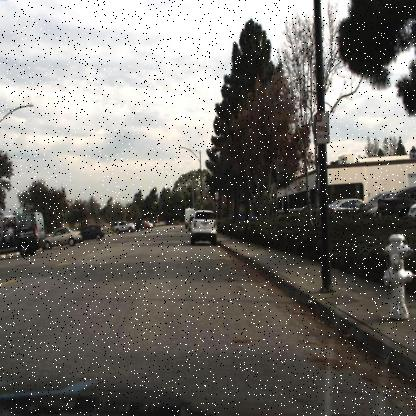car: (0, 208, 47, 260), (188, 206, 218, 246), (42, 223, 83, 252), (78, 222, 107, 244), (112, 216, 136, 237)
truck: (0, 208, 46, 254)
